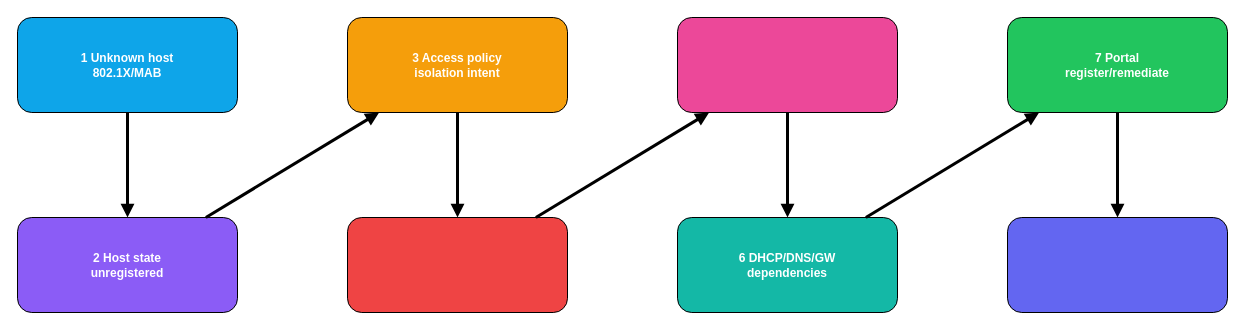
This 1245x330 diagram has some shape labels left out. The centre of each missing label's shape, as x and y in pixels:
4 Switch/AP VLAN enforcement: the point at 457,264
5 Isolation VLAN restricted subnet: the point at 787,64
8 Re-evaluate production access: the point at 1117,264
